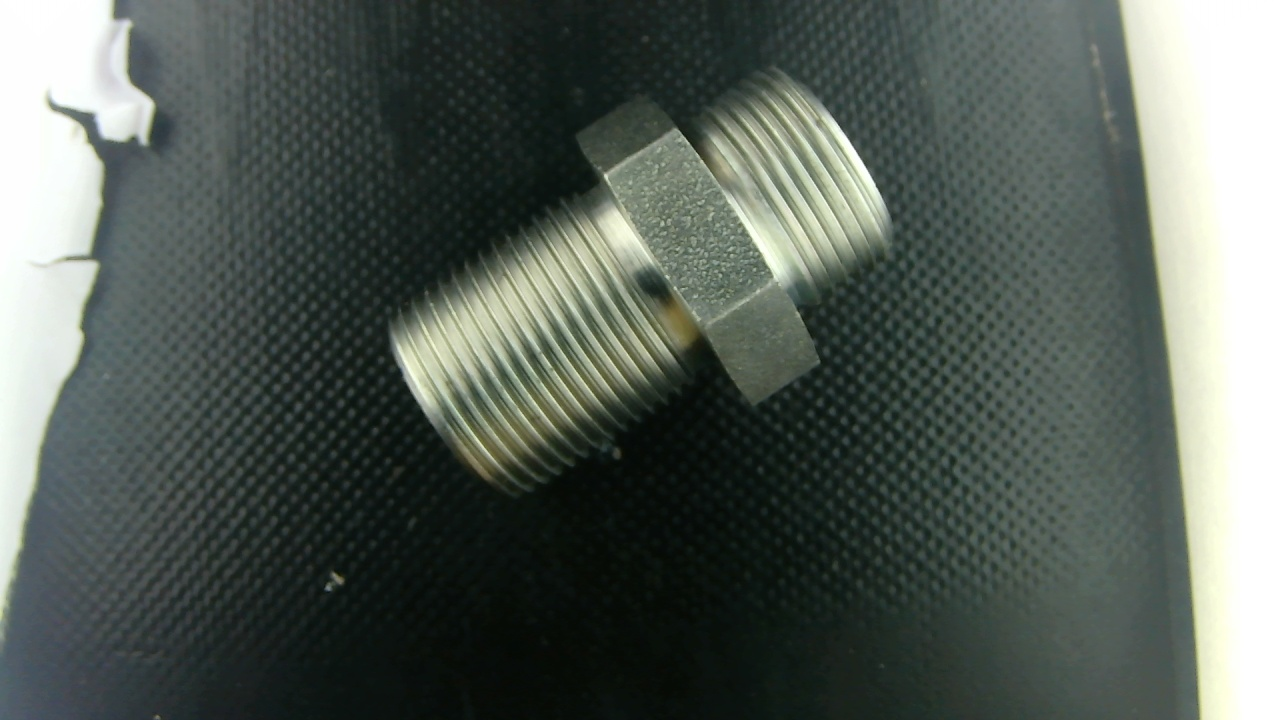okay_adapter: (390, 68, 891, 494)
